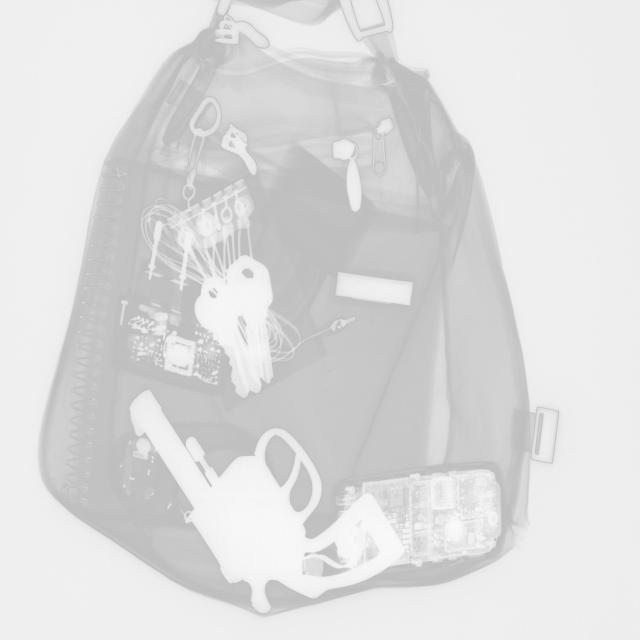pistol: (130, 392, 402, 614)
